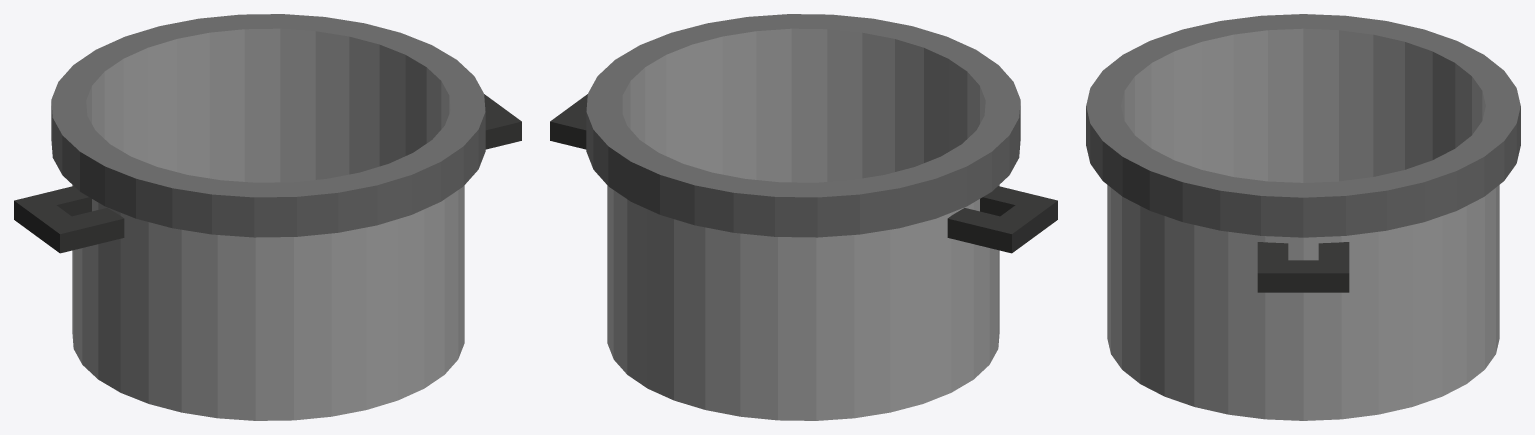
Rendered from Fire_Boil_Pot.fbx.
3 renders of one model, left to right at view 1: azimuth 30°, elevation 25°; view 2: azimuth 150°, elevation 25°; view 3: azimuth 270°, elevation 25°, orthographic.
Visible parts, largest first — view 1: Pot_Boil; view 2: Pot_Boil; view 3: Pot_Boil.
Part boxes in pixels (box(x1,y1,x2,y2)): Pot_Boil: box(14, 14, 521, 420); Pot_Boil: box(550, 14, 1057, 420); Pot_Boil: box(1086, 14, 1520, 420).
Bounding box in the file's own units: 0.6134 × 0.2949 × 0.5004.
